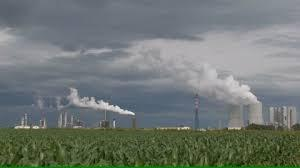smoke: (132, 46, 260, 108), (27, 81, 137, 119)
